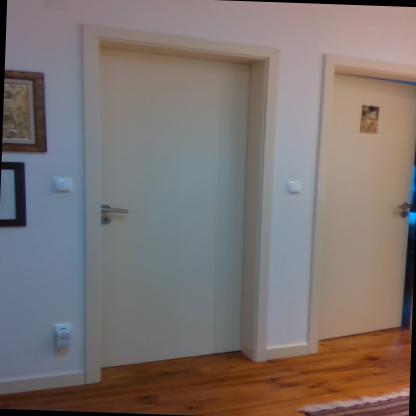closed: (35, 5, 306, 378)
semi: (309, 51, 415, 361)
